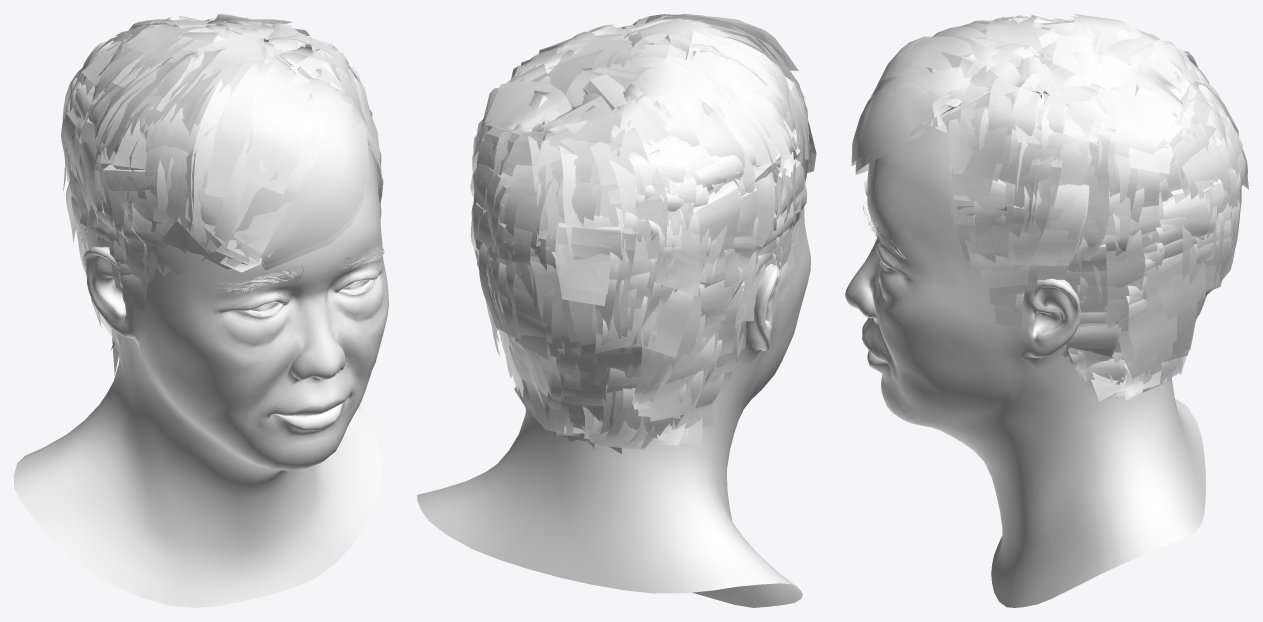
File: 真人头像_男_中年03_opt.glb
3 views of the same model, side by side, from view 1: azimuth 30°, elevation 25°; view 2: azimuth 150°, elevation 25°; view 3: azimuth 270°, elevation 25° (orthographic). The views are drawn at different scales.
Visible parts, largest first — view 1: Middle_Aged_Asian_Man1, Middle_Aged_Asian_Man1_Hair_1, Middle_Aged_Asian_Man1_1, Middle_Aged_Asian_Man1_Hair, Middle_Aged_Asian_Man1_Hair_0; view 2: Middle_Aged_Asian_Man1_Hair_1, Middle_Aged_Asian_Man1, Middle_Aged_Asian_Man1_1; view 3: Middle_Aged_Asian_Man1_Hair_1, Middle_Aged_Asian_Man1, Middle_Aged_Asian_Man1_1.
Part boxes in pixels (x1,y1,x2,y2): Middle_Aged_Asian_Man1: (14, 144, 388, 607); Middle_Aged_Asian_Man1_Hair_1: (61, 14, 383, 375); Middle_Aged_Asian_Man1_1: (90, 154, 379, 601); Middle_Aged_Asian_Man1_Hair: (214, 247, 384, 294); Middle_Aged_Asian_Man1_Hair_0: (245, 278, 376, 316); Middle_Aged_Asian_Man1_Hair_1: (470, 14, 816, 453); Middle_Aged_Asian_Man1: (417, 207, 810, 607); Middle_Aged_Asian_Man1_1: (557, 229, 807, 592); Middle_Aged_Asian_Man1_Hair_1: (851, 14, 1248, 401); Middle_Aged_Asian_Man1: (845, 128, 1206, 607); Middle_Aged_Asian_Man1_1: (851, 150, 1201, 572).
Bounding box in the file's own units: 0.2008 × 0.3 × 0.2022.
Materials: 2 (2 with a texture image).
